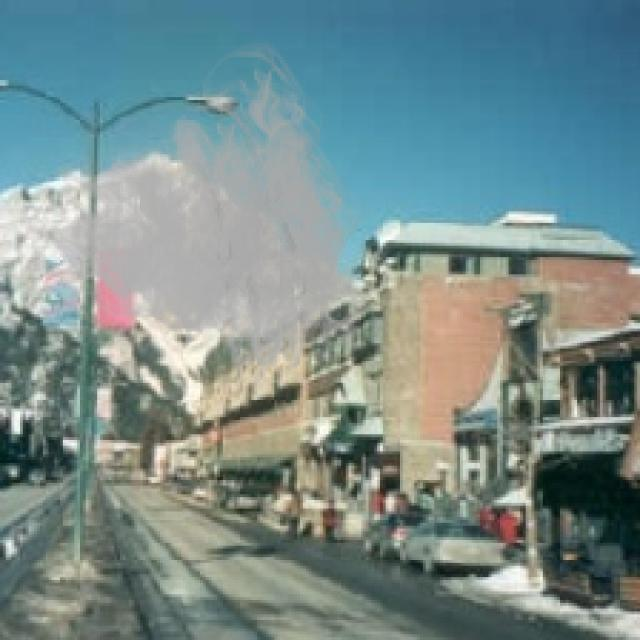Smoke: (20, 37, 383, 400)
